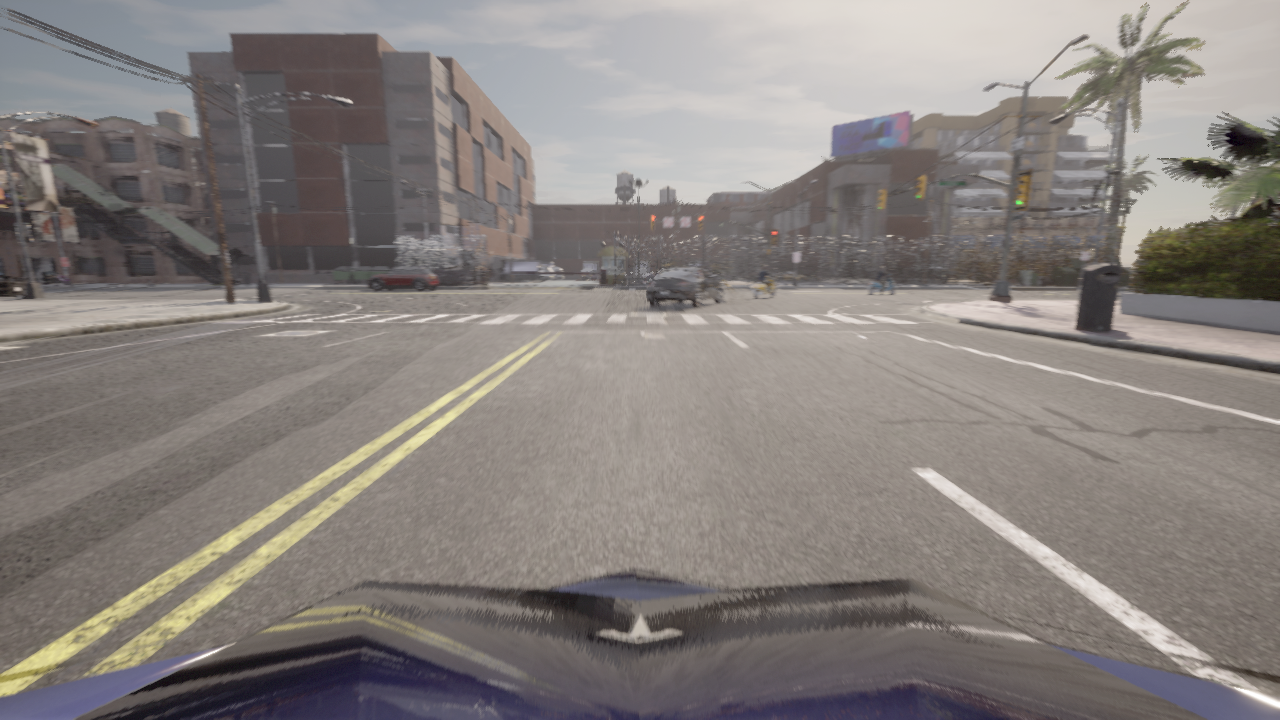cyclist: (0, 569, 1279, 719), (647, 266, 724, 307), (368, 265, 439, 290), (501, 260, 553, 280), (899, 264, 949, 283), (522, 262, 563, 280), (867, 273, 896, 294), (752, 276, 776, 298), (747, 268, 778, 280), (771, 271, 806, 281), (644, 268, 667, 281), (582, 264, 596, 279), (753, 271, 774, 280), (54, 274, 70, 285), (635, 264, 647, 278), (1268, 218, 1277, 226), (687, 264, 699, 267), (642, 275, 644, 278), (789, 280, 790, 281)
